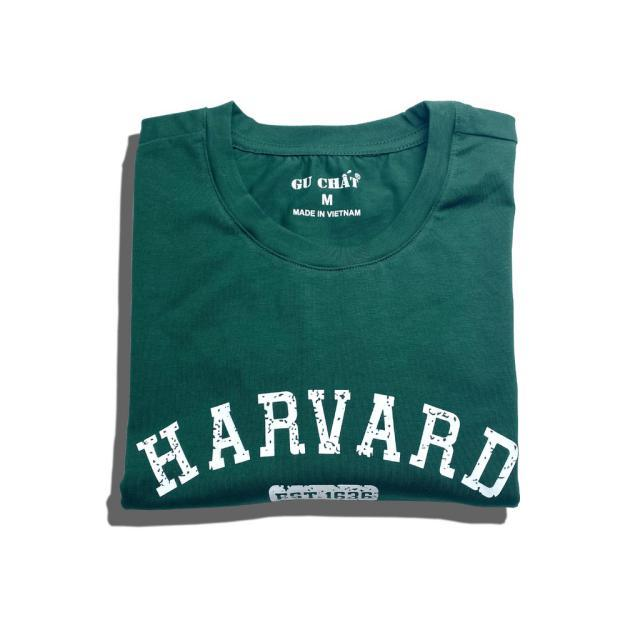Shirt: (126, 100, 524, 526)
